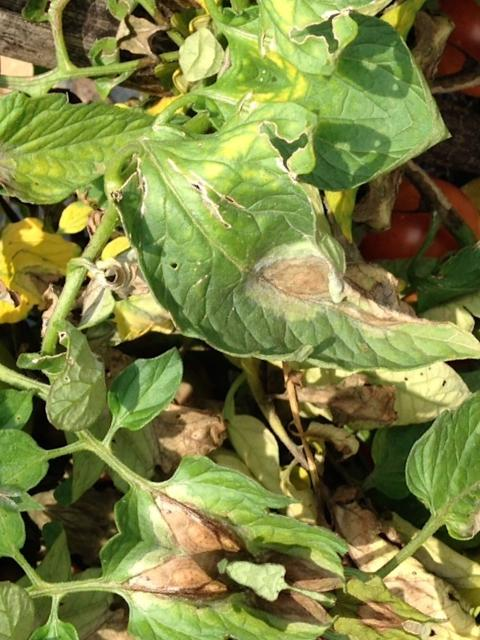Tomato leaf late blight: (59, 94, 480, 423), (96, 438, 363, 602), (0, 57, 172, 255), (382, 308, 480, 571)
